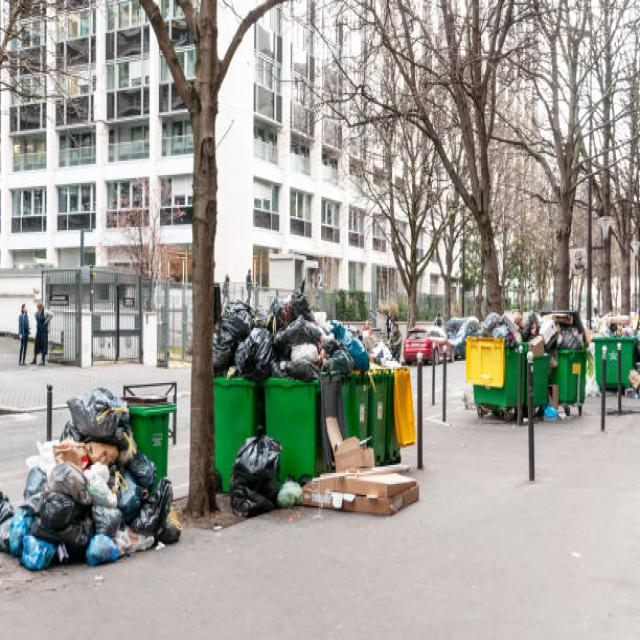cardboard: (212, 285, 378, 361), (294, 438, 432, 509), (525, 336, 547, 358)
trash: (1, 402, 187, 569)
